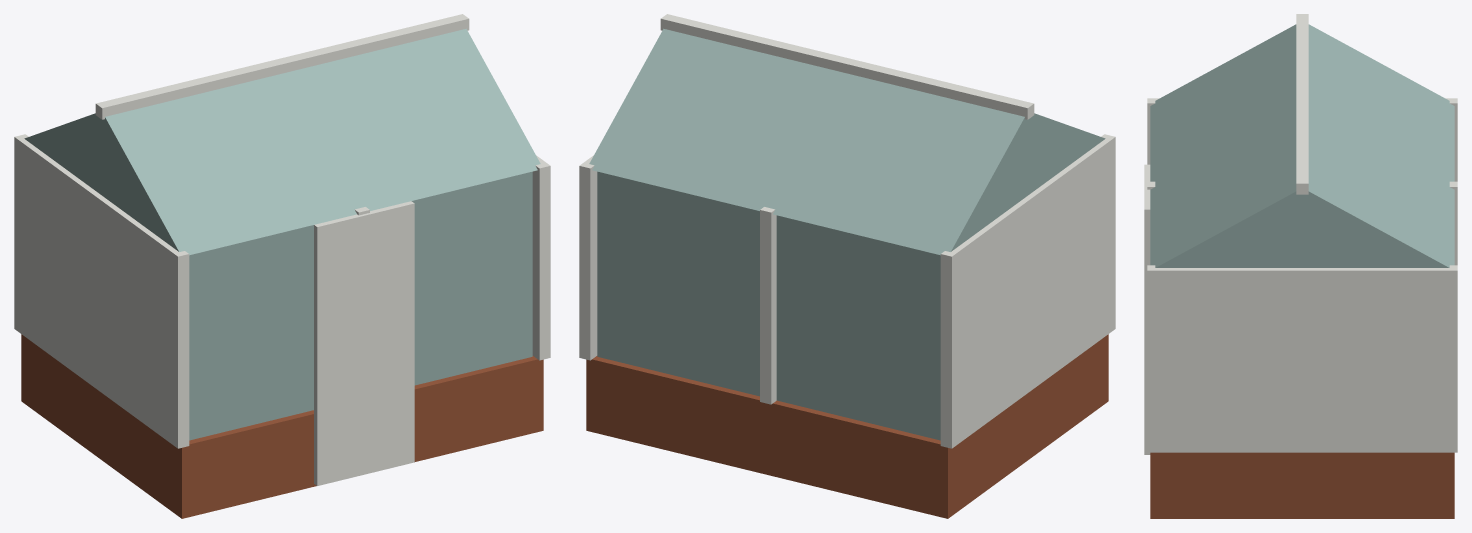
File: greenhouse.glb
The picture shows the model from 3 angles, left to right: view 1: azimuth 30°, elevation 25°; view 2: azimuth 150°, elevation 25°; view 3: azimuth 270°, elevation 25°; orthographic projection. The views are drawn at different scales.
Parts seen in each view (by area): view 1: greenhouse; view 2: greenhouse; view 3: greenhouse.
Part boxes in pixels (x1,y1,x2,y2): greenhouse: (14,14,550,518); greenhouse: (579,14,1115,518); greenhouse: (1144,14,1457,518).
Size of the model in its own units: 2.68 by 2.44 by 2.06.
